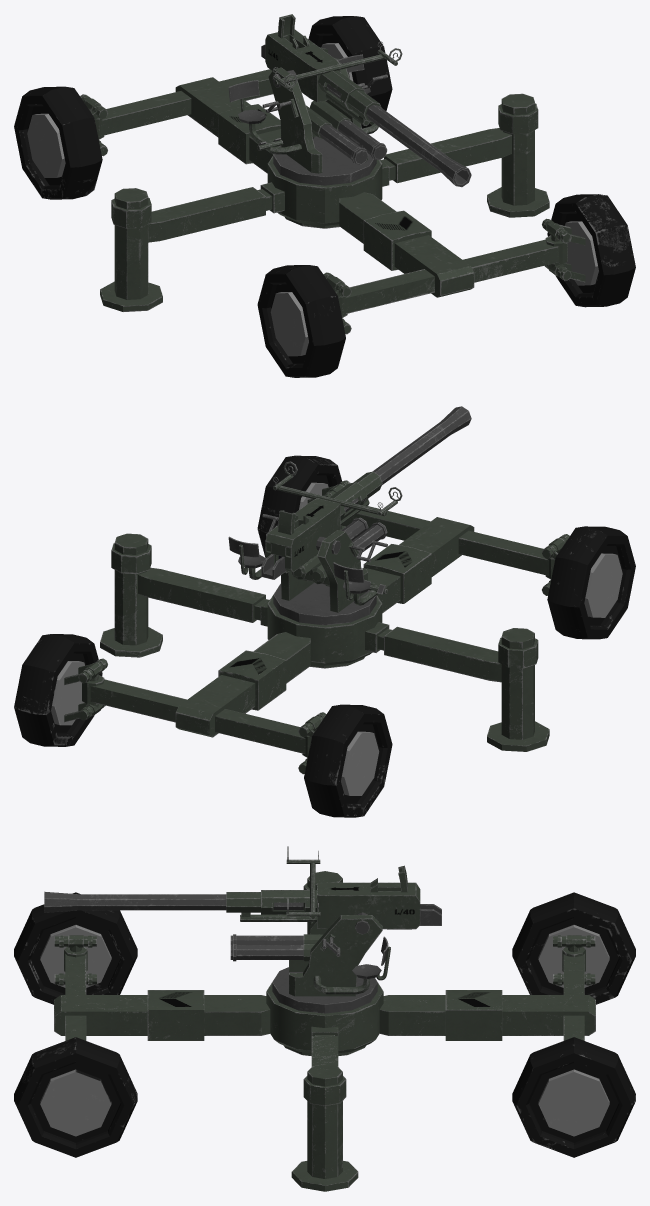
The model's file is Gunmaggedon L40 AA.fbx.
3 views of the same model, one above another, from view 1: azimuth 30°, elevation 25°; view 2: azimuth 150°, elevation 25°; view 3: azimuth 270°, elevation 25° (orthographic). The views are drawn at different scales.
Visible parts, largest first — view 1: wheels, base, supports, traverse, gun, barrel; view 2: wheels, base, supports, traverse, gun, barrel; view 3: wheels, base, traverse, gun, supports, barrel.
Boxes of the visible parts, <box> form: wheels: <box>14,16,635,377</box>; base: <box>80,47,585,334</box>; supports: <box>100,93,549,311</box>; traverse: <box>228,54,387,185</box>; gun: <box>261,14,402,125</box>; barrel: <box>366,104,471,187</box>; wheels: <box>14,455,635,817</box>; base: <box>64,480,569,774</box>; supports: <box>100,533,549,751</box>; traverse: <box>228,517,387,625</box>; gun: <box>261,461,402,579</box>; barrel: <box>372,406,471,484</box>; wheels: <box>14,892,635,1157</box>; base: <box>54,935,595,1055</box>; traverse: <box>230,915,390,1013</box>; gun: <box>226,846,441,934</box>; supports: <box>291,871,358,1191</box>; barrel: <box>44,891,226,912</box>.
Size of the model in its own units: 688 by 308 by 817.
Materials: 2 (2 with a texture image).
